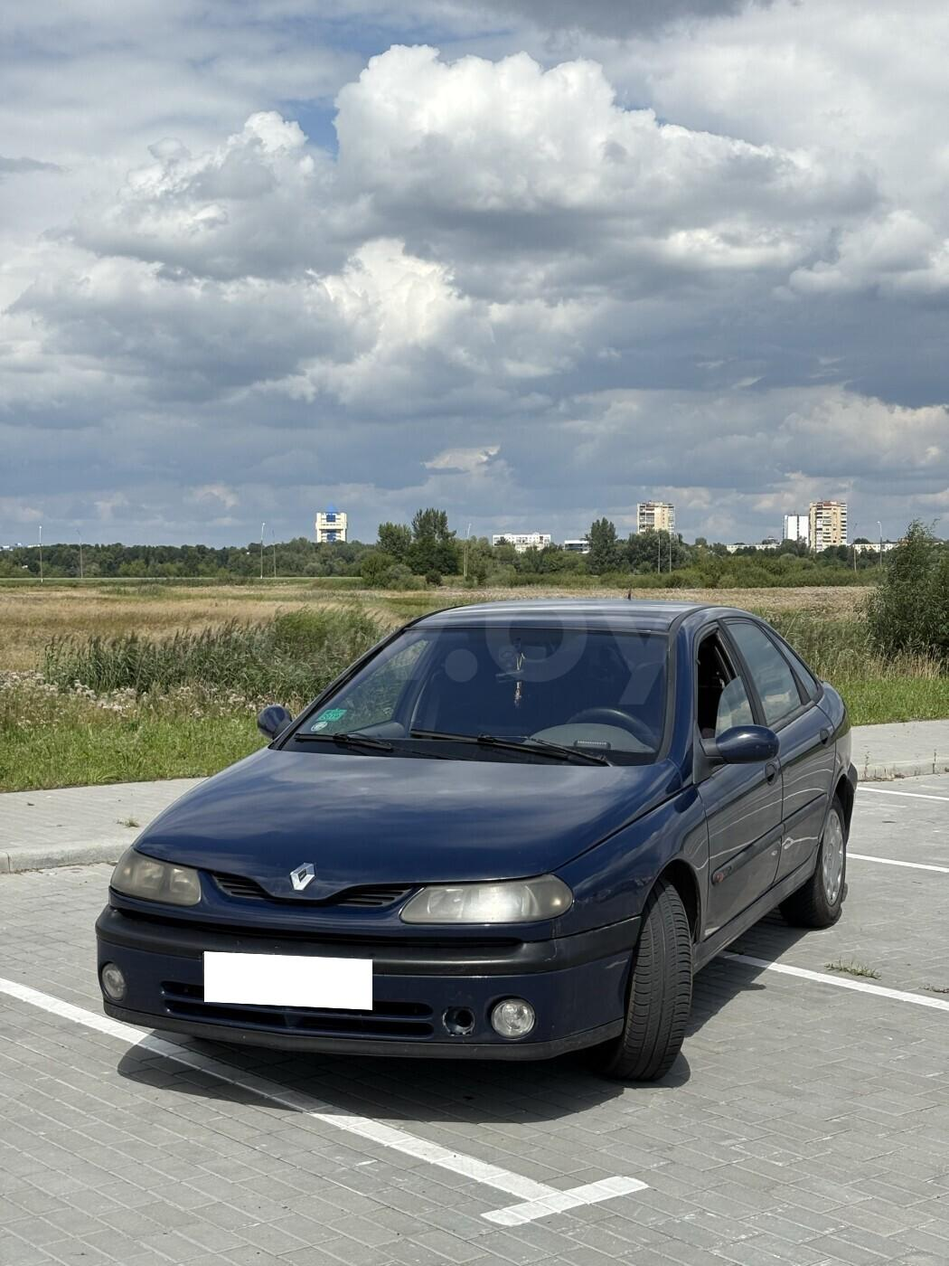Laguna_1998-2001: (89, 595, 859, 1082)
